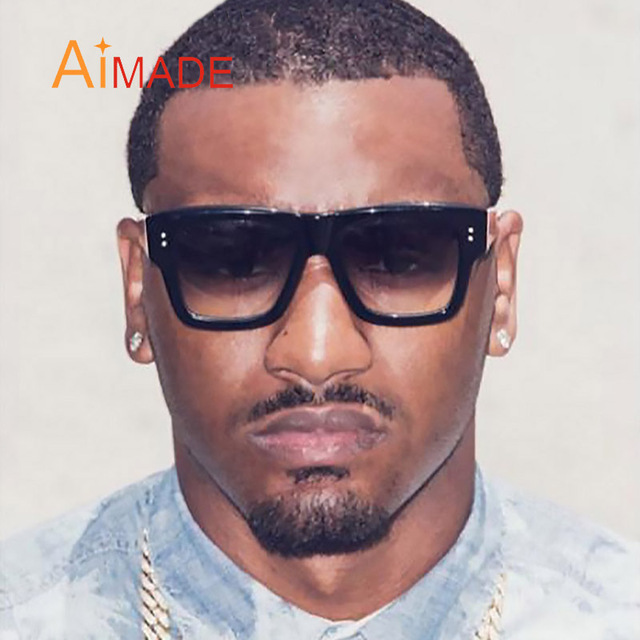sunglasses: (103, 179, 529, 348)
